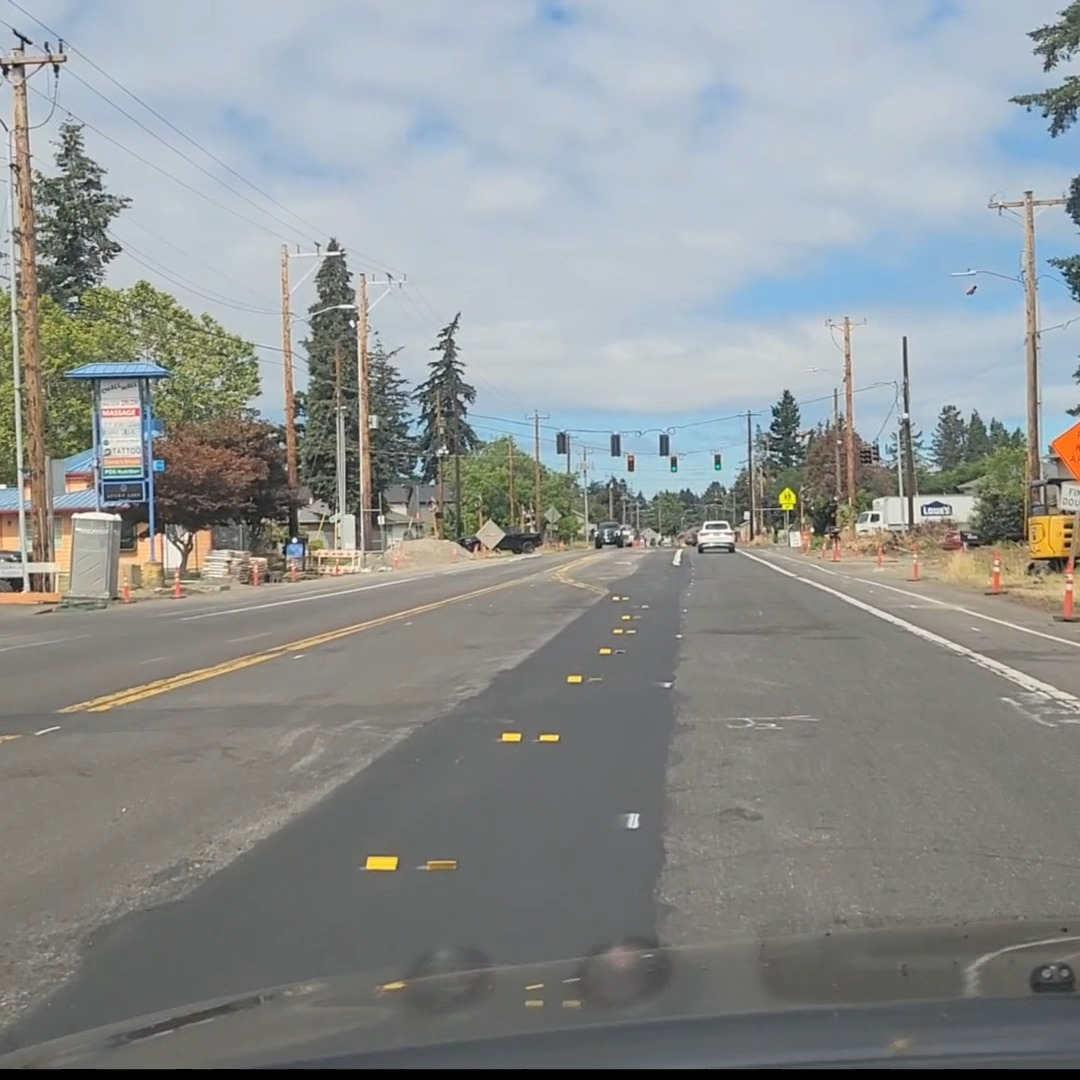car: (0, 549, 34, 591), (695, 521, 736, 553), (593, 521, 625, 549)
crosswalk-sign: (777, 487, 796, 510)
delineator: (1056, 570, 1077, 619), (983, 552, 1006, 596), (907, 544, 921, 581), (121, 572, 134, 603), (171, 568, 184, 598), (130, 564, 141, 588), (831, 536, 841, 561), (819, 535, 829, 558), (875, 542, 884, 567), (288, 559, 298, 581), (801, 531, 811, 553), (251, 562, 260, 586), (469, 543, 477, 559)
